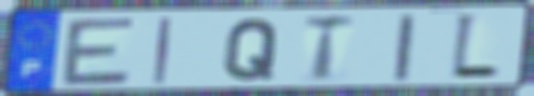E: (58, 15, 140, 88)
I: (390, 12, 419, 83), (151, 15, 176, 86)
L: (447, 11, 503, 82)
Q: (219, 16, 283, 83)
T: (300, 13, 358, 84)
